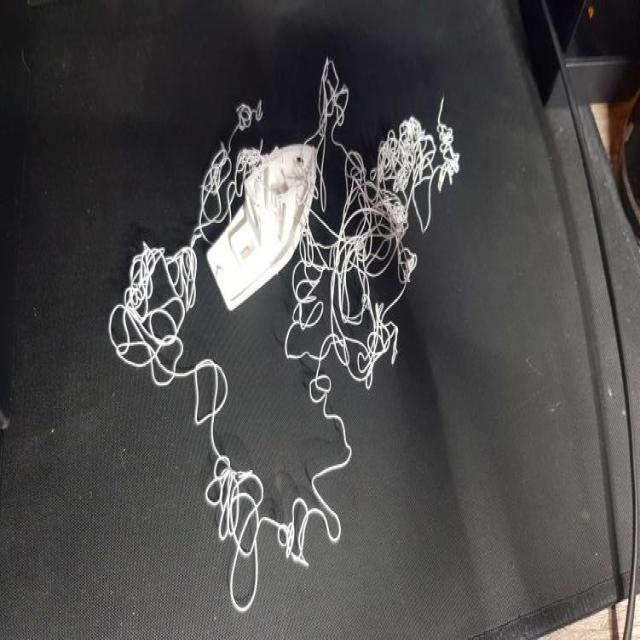spaghetti: (108, 62, 475, 615)
